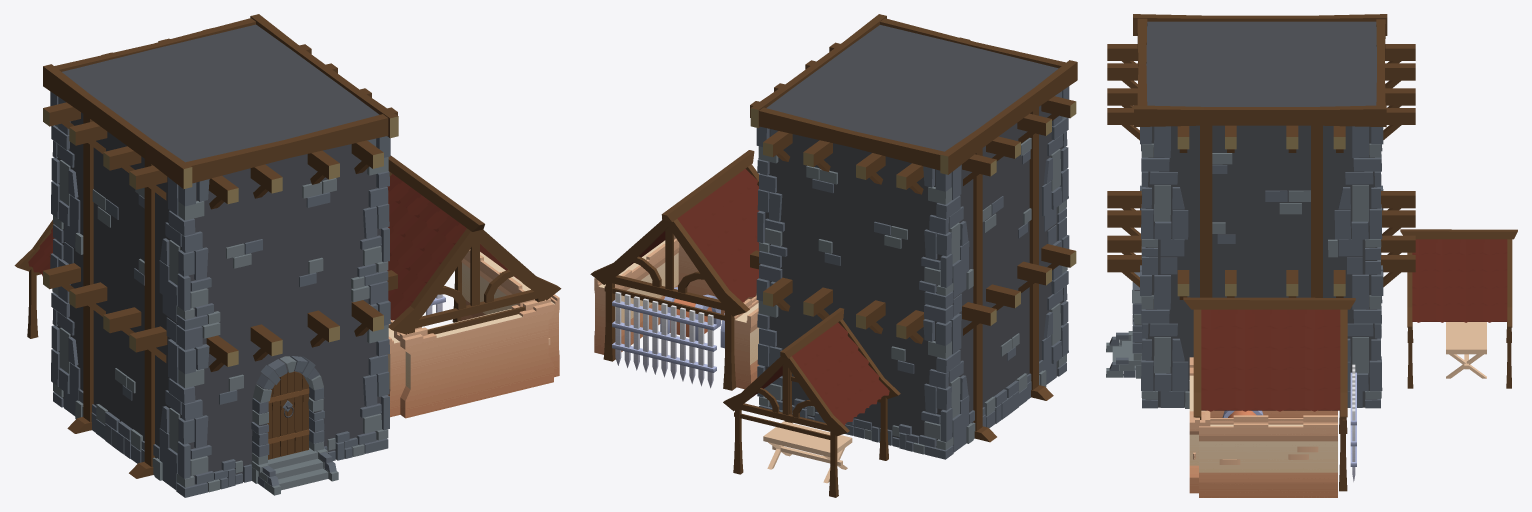
File: london_bank_2.glb
3 renders of one model, left to right at view 1: azimuth 30°, elevation 25°; view 2: azimuth 150°, elevation 25°; view 3: azimuth 270°, elevation 25°, orthographic. The views are drawn at different scales.
Parts seen in each view (by area): view 1: House_3, Gazebo (×2), wall (×3); view 2: House_3, Gazebo (×2), metal-gate, wall (×3), tableCross(Clone); view 3: House_3, Gazebo (×2), wall (×3), tableCross(Clone), metal-gate.
Boxes of the visible parts, box(x1,y1,x2,y2) form: House_3: box(43, 14, 398, 497); Gazebo (×2): box(14, 155, 561, 338); wall (×3): box(387, 249, 559, 418); House_3: box(750, 14, 1077, 459); Gazebo (×2): box(590, 150, 900, 497); metal-gate: box(612, 292, 716, 388); wall (×3): box(594, 235, 759, 389); tableCross(Clone): box(763, 421, 852, 483); House_3: box(1106, 14, 1415, 408); Gazebo (×2): box(1183, 229, 1517, 491); wall (×3): box(1189, 357, 1337, 497); tableCross(Clone): box(1446, 322, 1486, 378); metal-gate: box(1350, 364, 1356, 481).
Bounding box in the file's own units: 19.96 × 14.62 × 18.07.
12 materials, 3 textured.
